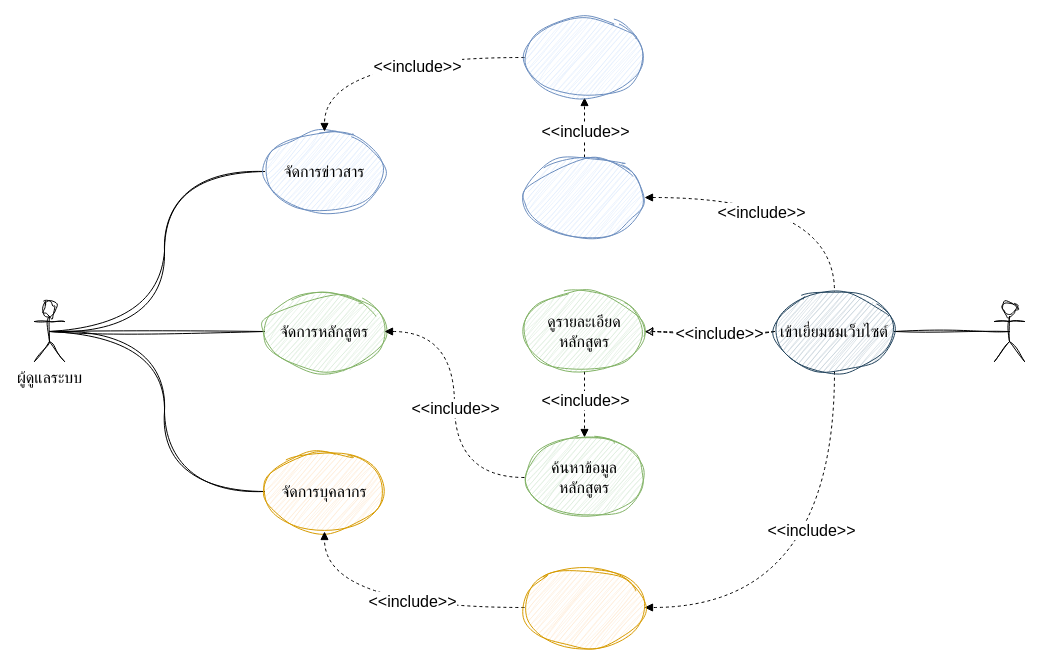
The diagram is 1054 pixels wide and 665 high, and some of its shapes have lost their labels. Each missing label, with the centre of its shape:
ค้นหาข้อมูล ข่าวสาร: the point at 584,57
ดูข่าวสาร: the point at 584,197
ดูข้อมูลบุคลากร: the point at 584,607
ผู้เยี่ยมชม: the point at 1009,331
